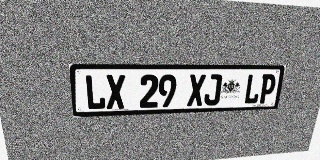2: (140, 74, 159, 108)
9: (158, 74, 177, 107)
J: (203, 74, 222, 106)
L: (84, 75, 106, 110), (243, 74, 262, 104)
P: (258, 74, 277, 104)
X: (105, 75, 125, 109), (187, 74, 206, 106)
